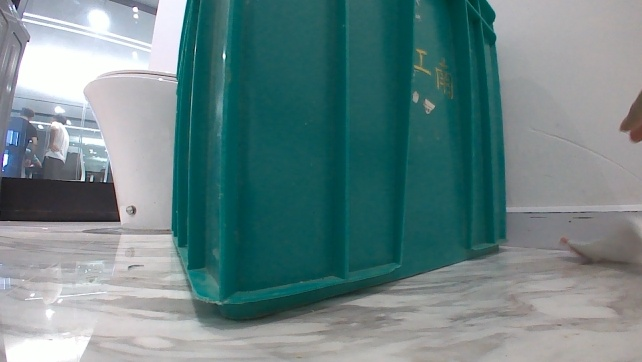toilet: (82, 67, 178, 232)
